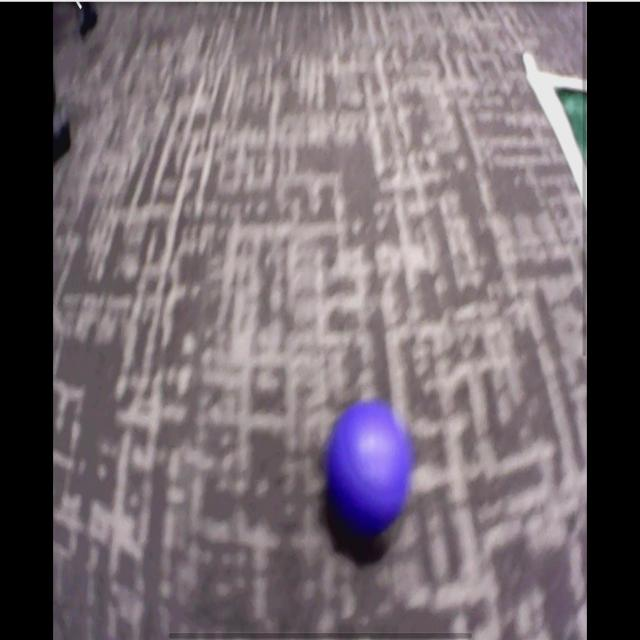ball: (328, 403, 410, 536)
